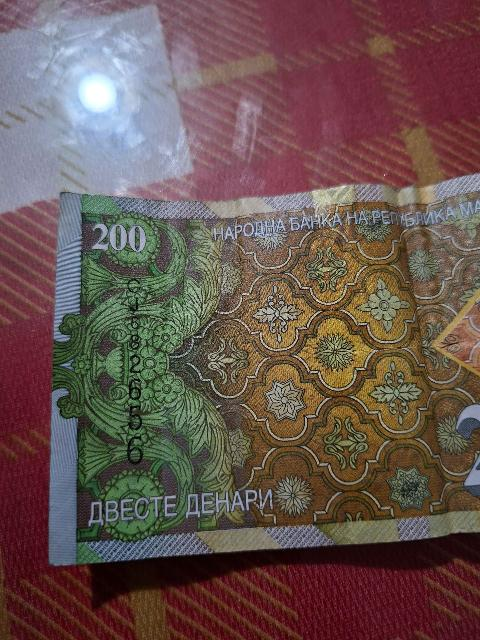200_note: (51, 186, 479, 563)
